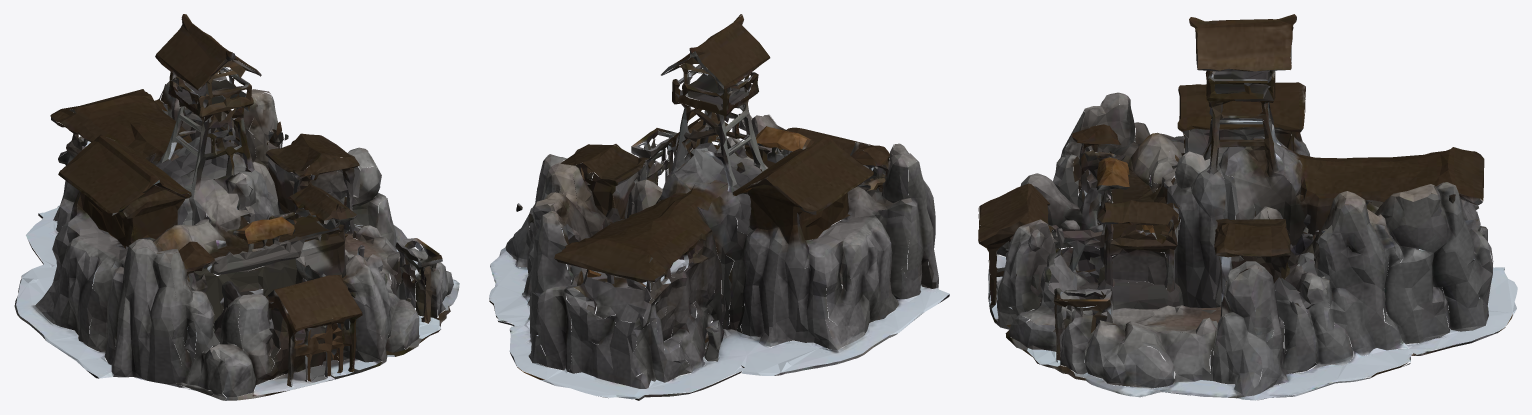
The model's file is 13_miao_stilted.glb.
The picture shows the model from 3 angles, left to right: view 1: azimuth 30°, elevation 25°; view 2: azimuth 150°, elevation 25°; view 3: azimuth 270°, elevation 25°; orthographic projection. The views are drawn at different scales.
Parts seen in each view (by area): view 1: 13_miao_stilted.ply; view 2: 13_miao_stilted.ply; view 3: 13_miao_stilted.ply.
Part boxes in pixels (x1,y1,x2,y2): 13_miao_stilted.ply: (14, 14, 459, 400); 13_miao_stilted.ply: (489, 14, 949, 400); 13_miao_stilted.ply: (978, 14, 1517, 400).
Size of the model in its own units: 0.8577 by 0.5736 by 1.
Materials: 1 (1 with a texture image).
